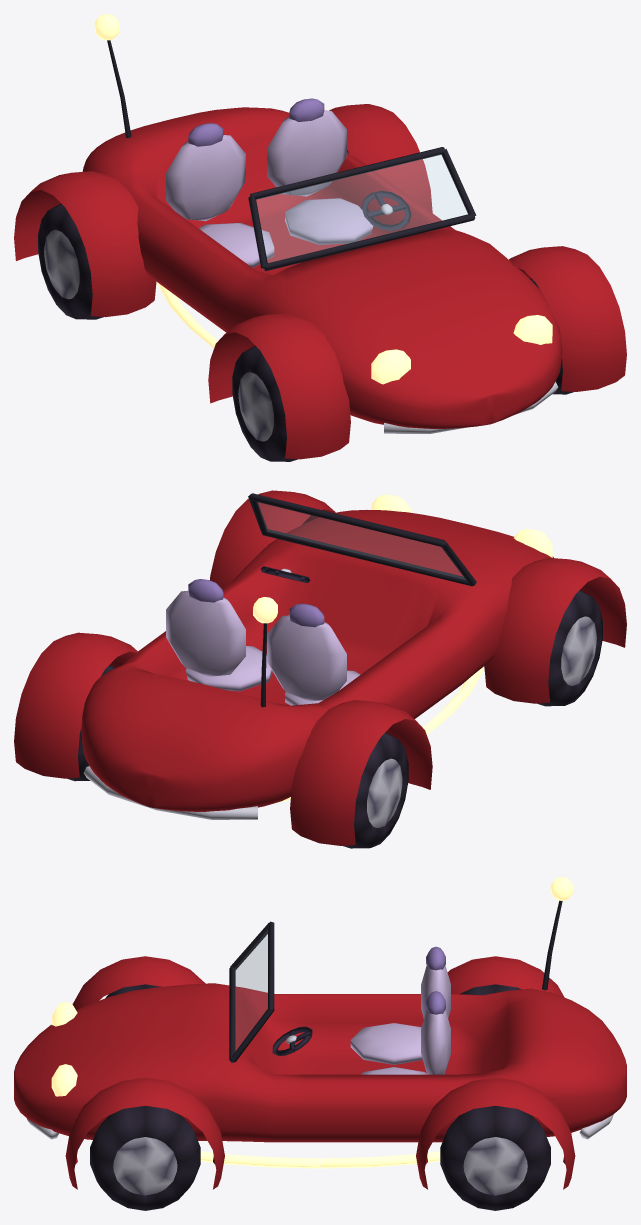
File: roadster.glb
3 views of the same model, one above another, from view 1: azimuth 30°, elevation 25°; view 2: azimuth 150°, elevation 25°; view 3: azimuth 270°, elevation 25° (orthographic). The views are drawn at different scales.
Parts seen in each view (by area): view 1: body, windscreen, seat_L, seat_R, trim_body, wheel_FR, wheel_RR, steering, headlamp_R, headlamp_L, underglow; view 2: body, seat_L, seat_R, trim_body, windscreen, wheel_RR, wheel_FR, underglow, headlamp_R, antenna_bauble, headlamp_L; view 3: body, wheel_FL, wheel_RL, seat_R, trim_body, windscreen, seat_L, underglow, steering, headlamp_L.
Part boxes in pixels (left/top/right/bottom): body: left=14, top=104, right=626, bottom=459; windscreen: left=256, top=154, right=467, bottom=262; seat_L: left=267, top=98, right=373, bottom=244; seat_R: left=166, top=123, right=274, bottom=267; trim_body: left=107, top=40, right=558, bottom=433; wheel_FR: left=232, top=345, right=297, bottom=461; wheel_RR: left=38, top=203, right=103, bottom=319; steering: left=361, top=190, right=411, bottom=230; headlamp_R: left=371, top=349, right=410, bottom=384; headlamp_L: left=513, top=315, right=552, bottom=344; underglow: left=158, top=283, right=218, bottom=348; body: left=14, top=490, right=626, bottom=845; seat_L: left=166, top=579, right=272, bottom=691; seat_R: left=267, top=603, right=360, bottom=705; trim_body: left=83, top=493, right=476, bottom=819; windscreen: left=257, top=502, right=465, bottom=579; wheel_RR: left=343, top=732, right=408, bottom=848; wheel_FR: left=537, top=590, right=602, bottom=706; underglow: left=276, top=667, right=483, bottom=802; headlamp_R: left=514, top=529, right=552, bottom=557; antenna_bauble: left=253, top=597, right=277, bottom=623; headlamp_L: left=371, top=494, right=410, bottom=512; body: left=14, top=956, right=626, bottom=1189; wheel_FL: left=90, top=1105, right=200, bottom=1210; wheel_RL: left=440, top=1105, right=550, bottom=1210; seat_R: left=350, top=946, right=450, bottom=1064; trim_body: left=27, top=900, right=613, bottom=1139; windscreen: left=235, top=930, right=267, bottom=1051; seat_L: left=361, top=991, right=450, bottom=1074; underglow: left=200, top=1151, right=440, bottom=1168; steering: left=272, top=1026, right=312, bottom=1055; headlamp_L: left=51, top=1064, right=77, bottom=1096.
Size of the model in its own units: 2.02 by 1.47 by 3.5.
